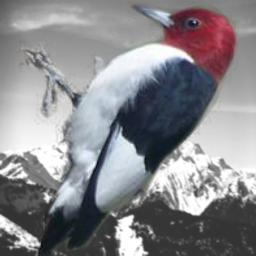Woodpecker: (15, 1, 239, 256)
